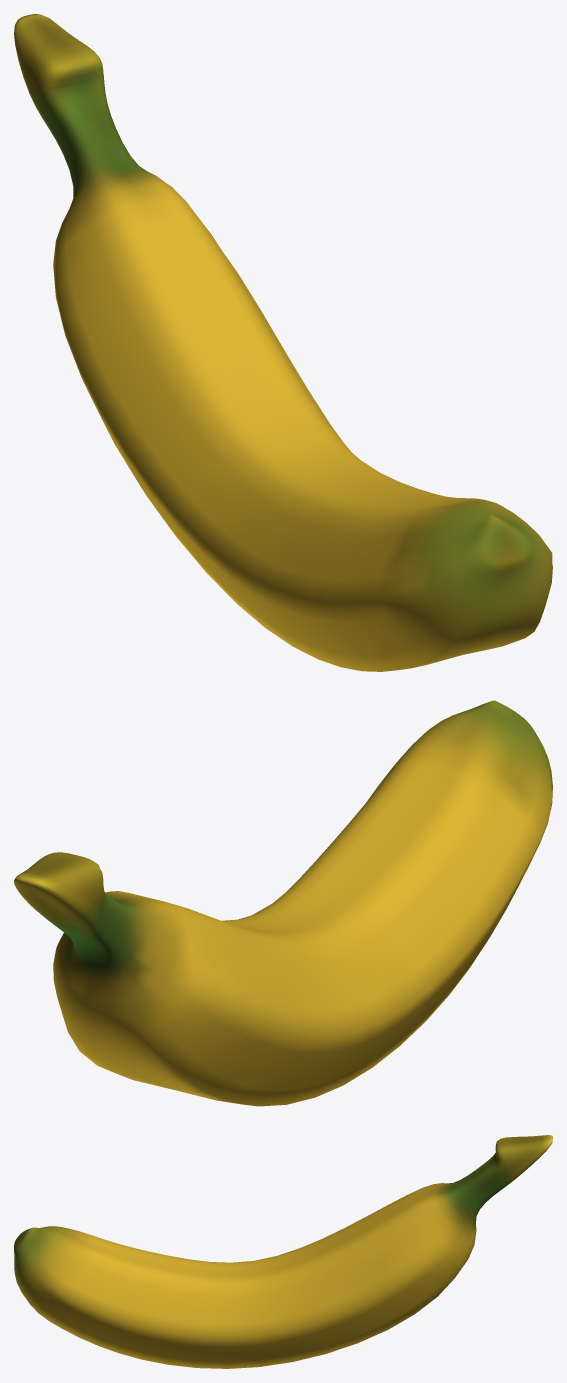
File: Banana.glb
3 views of the same model, one above another, from view 1: azimuth 30°, elevation 25°; view 2: azimuth 150°, elevation 25°; view 3: azimuth 270°, elevation 25° (orthographic). The views are drawn at different scales.
Parts seen in each view (by area): view 1: Cube; view 2: Cube; view 3: Cube.
Part boxes in pixels (bbox=[...]): Cube: bbox=[14, 14, 552, 671]; Cube: bbox=[14, 700, 552, 1106]; Cube: bbox=[14, 1135, 552, 1368].
Bounding box in the file's own units: 2.86 × 5.57 × 12.5.
